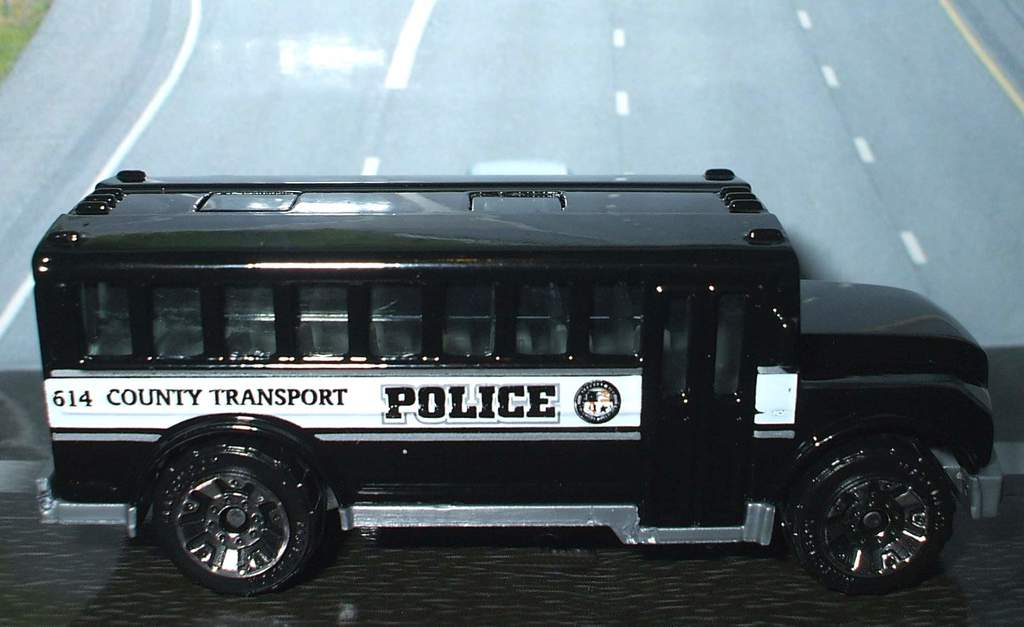Bus: (36, 161, 1002, 602)
